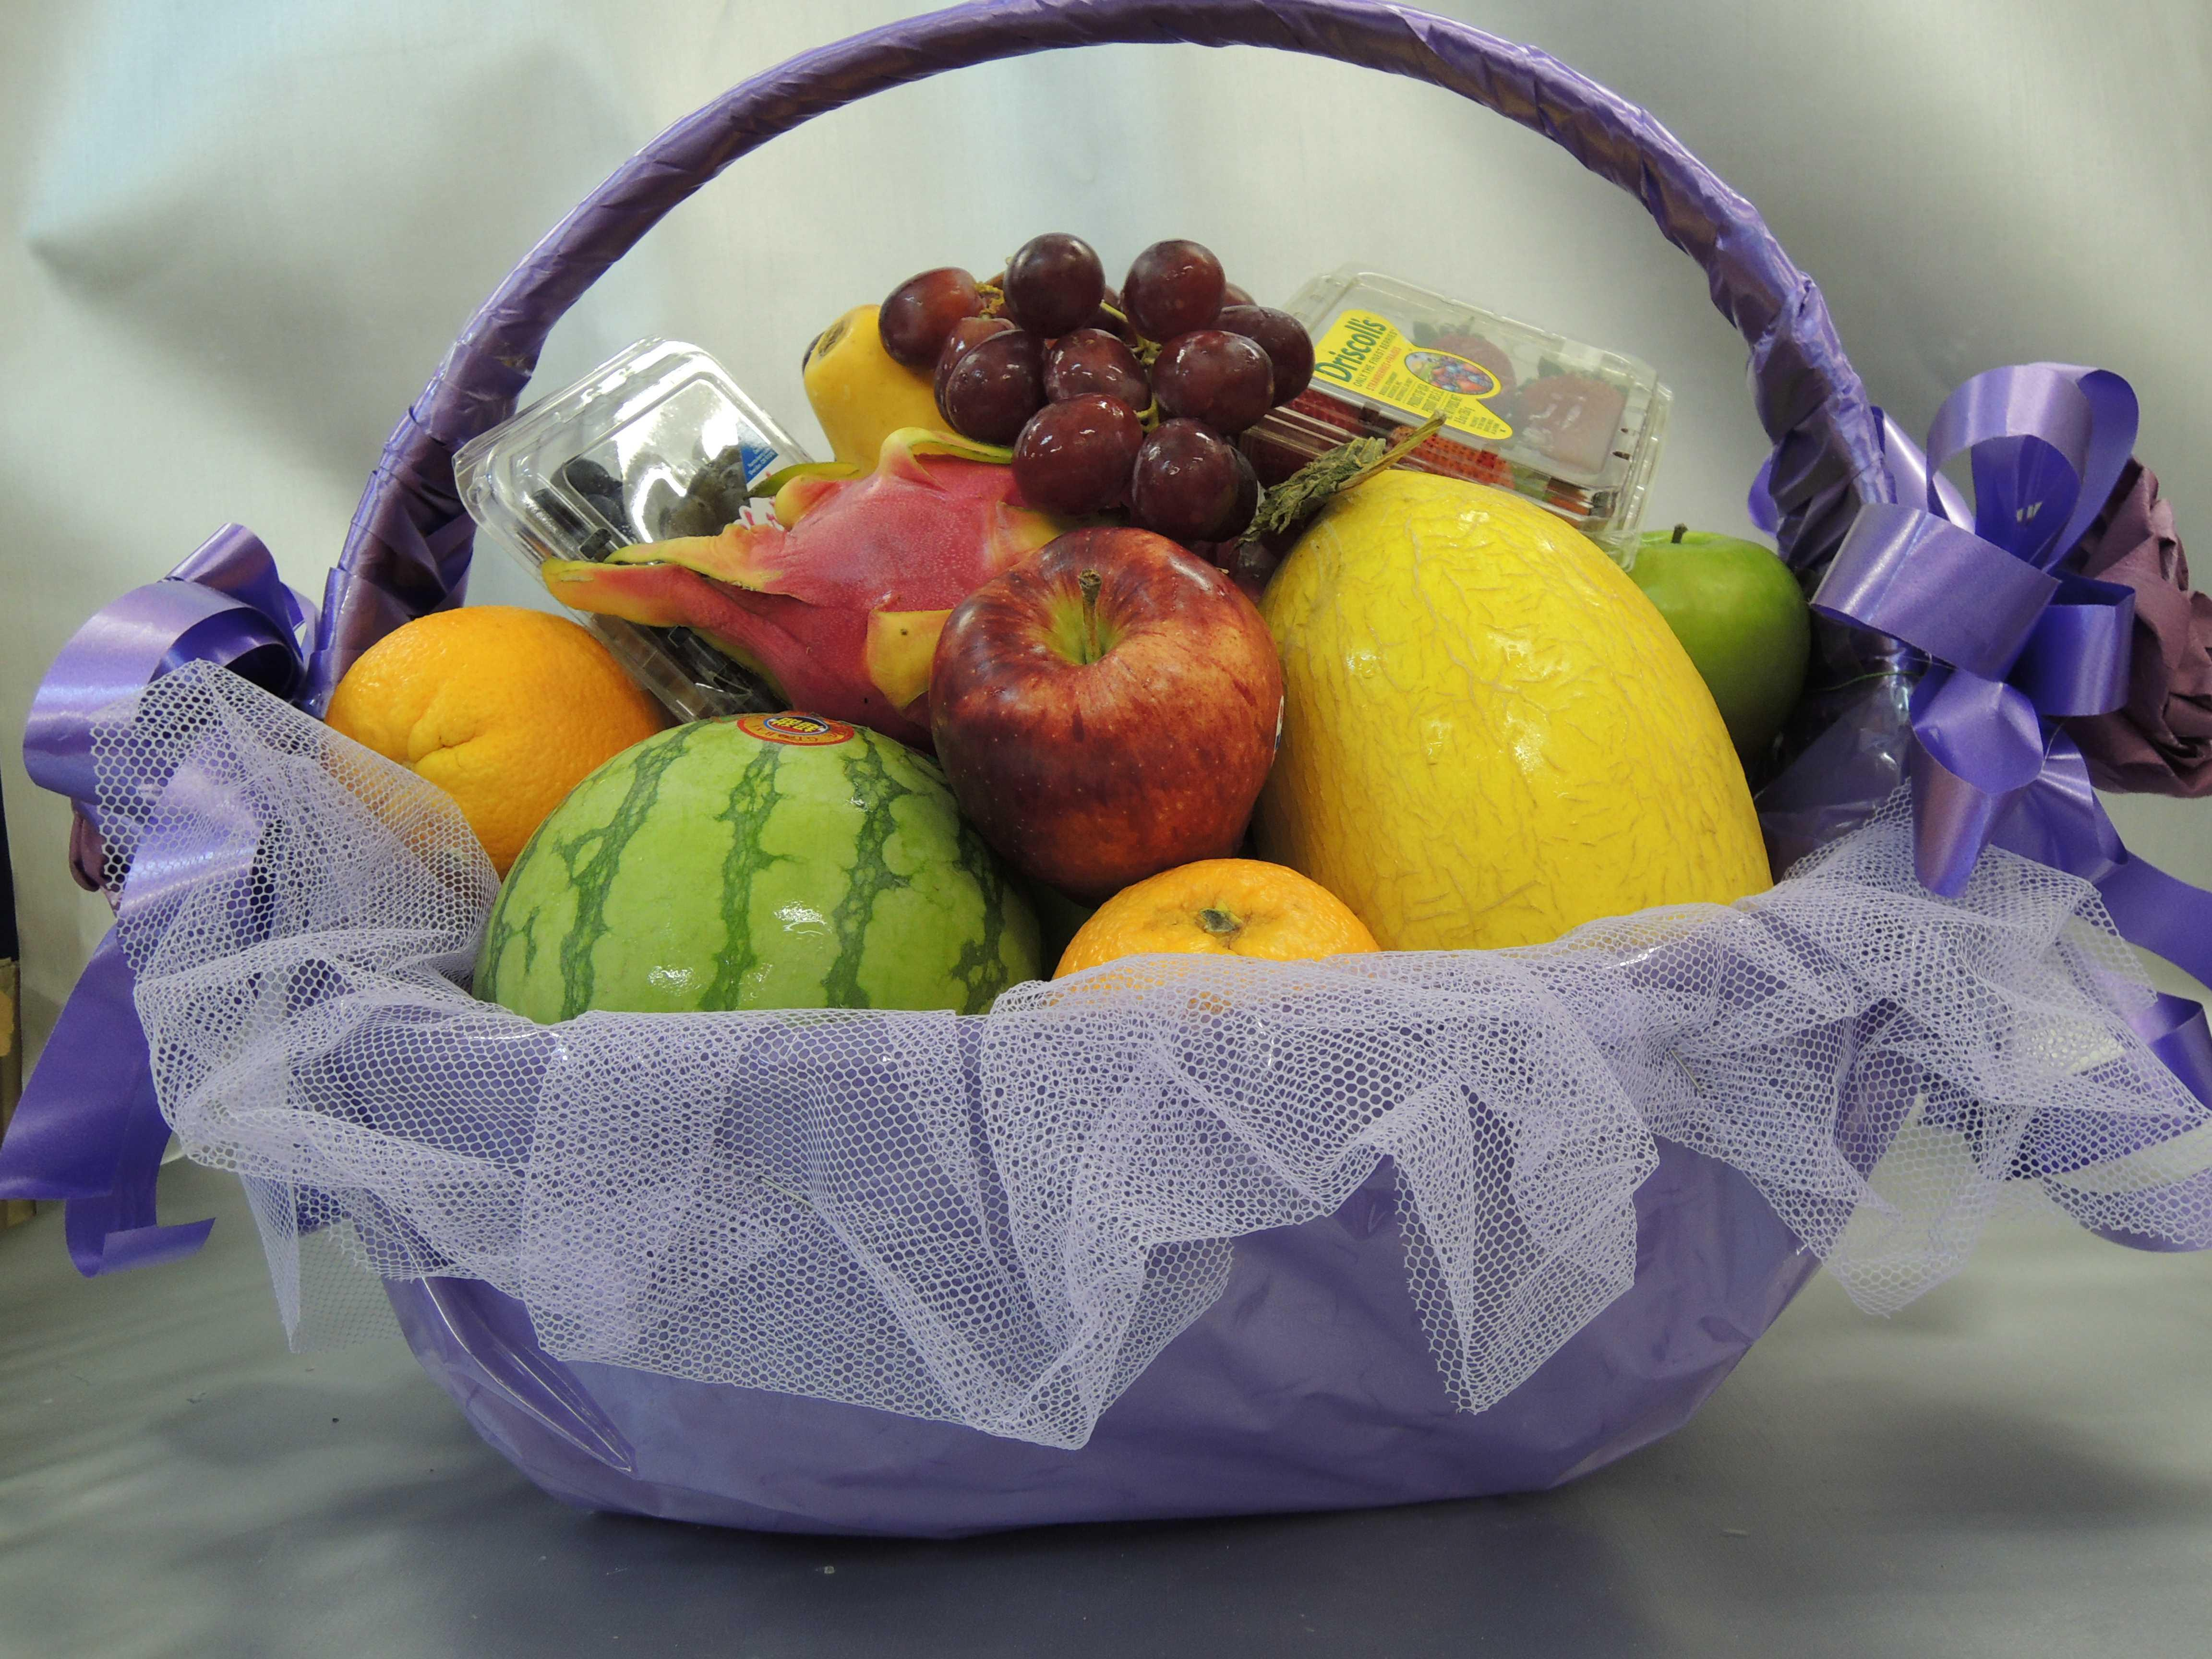apple: (921, 528, 1284, 908), (1622, 530, 1811, 784)
